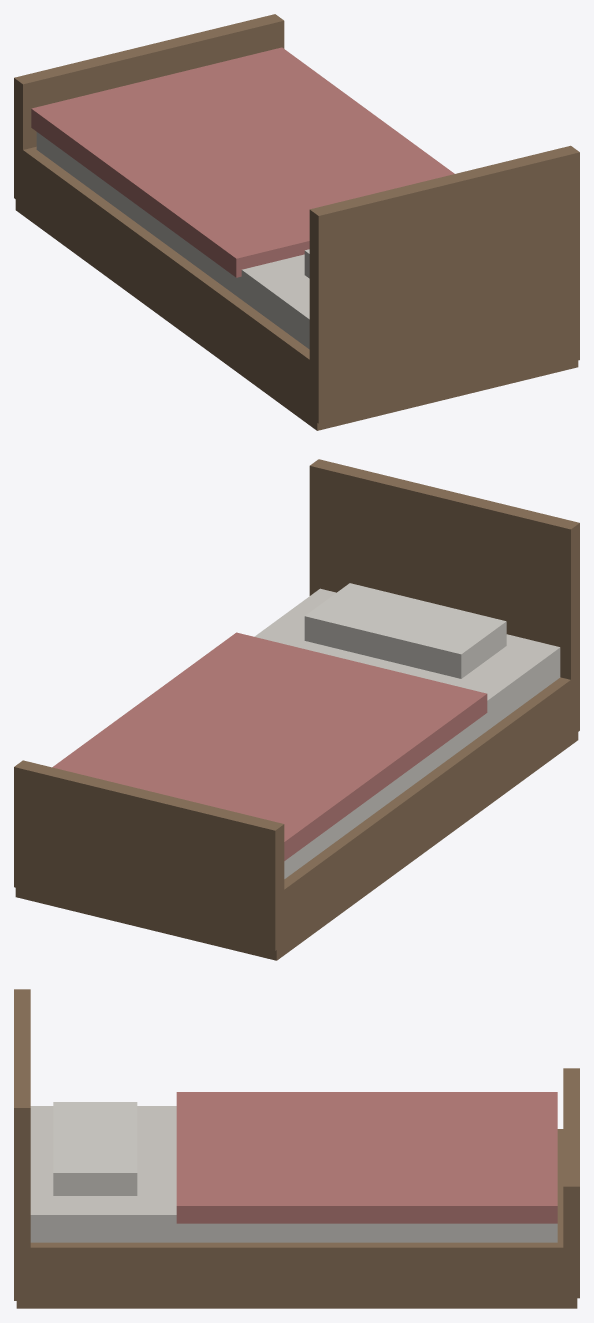
Rendered from bed.glb.
3 views of the same model, one above another, from view 1: azimuth 30°, elevation 25°; view 2: azimuth 150°, elevation 25°; view 3: azimuth 270°, elevation 25° (orthographic). The views are drawn at different scales.
Visible parts, largest first — view 1: bed; view 2: bed; view 3: bed.
Boxes of the visible parts, box(x1,y1,x2,y2) form: bed: box(14, 14, 579, 430); bed: box(14, 459, 579, 960); bed: box(14, 989, 579, 1308).
Bounding box in the file's own units: 1 × 0.79 × 2.02.
